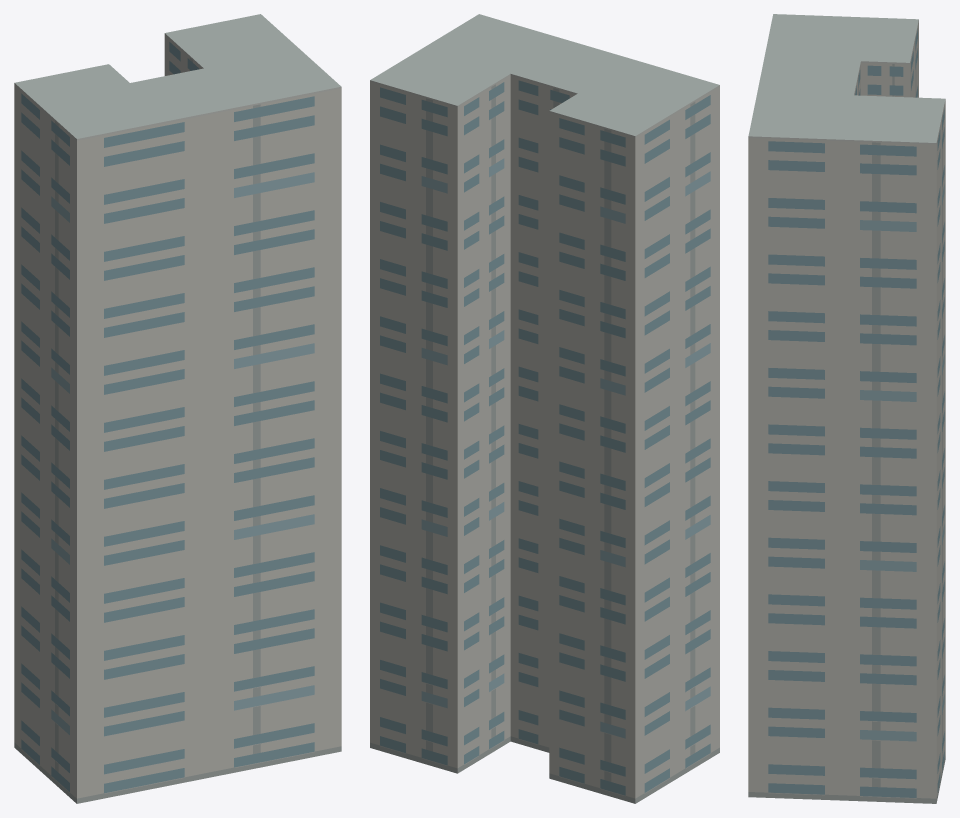
The model's file is residential-821a4b5b-afe9-4343-a24e-b324ec856b68.glb.
3 renders of one model, left to right at view 1: azimuth 30°, elevation 25°; view 2: azimuth 150°, elevation 25°; view 3: azimuth 270°, elevation 25°, orthographic.
Visible parts, largest first — view 1: residential-821a4b5b-afe9-4343-a24e-b324ec856b68.tmp; view 2: residential-821a4b5b-afe9-4343-a24e-b324ec856b68.tmp; view 3: residential-821a4b5b-afe9-4343-a24e-b324ec856b68.tmp.
Boxes of the visible parts, left/top/right/bottom form: residential-821a4b5b-afe9-4343-a24e-b324ec856b68.tmp: left=14, top=14, right=341, bottom=803; residential-821a4b5b-afe9-4343-a24e-b324ec856b68.tmp: left=370, top=14, right=719, bottom=803; residential-821a4b5b-afe9-4343-a24e-b324ec856b68.tmp: left=748, top=14, right=945, bottom=803.
Bounding box in the file's own units: 43.17 × 103 × 27.85.
